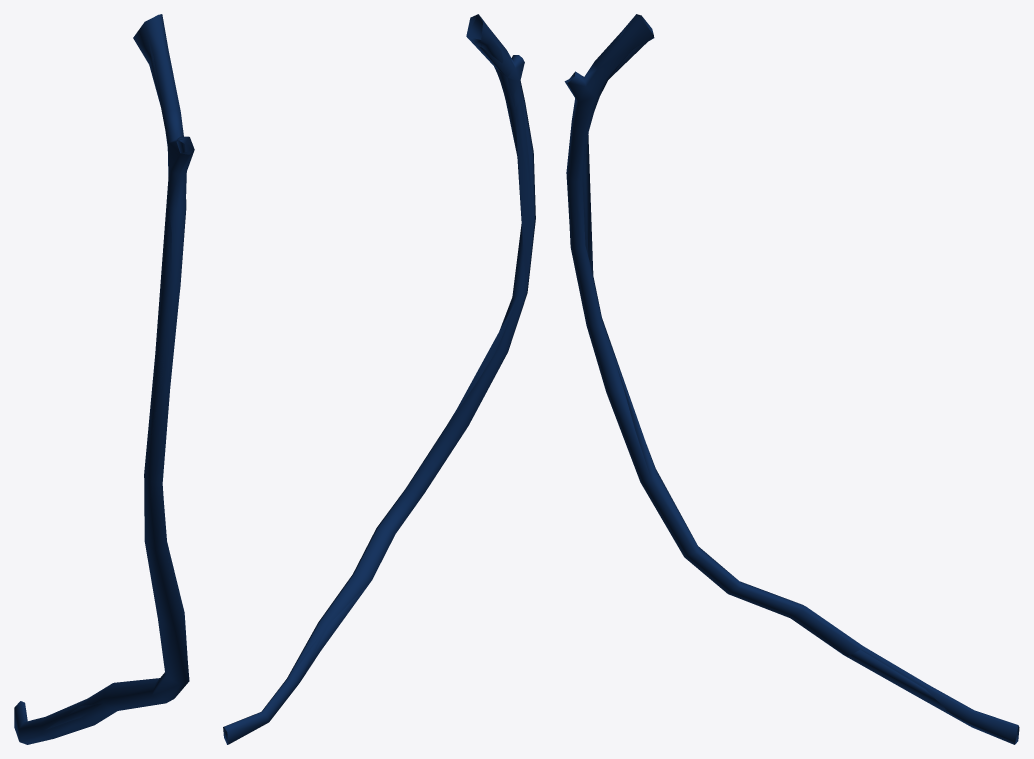
Rendered from L vena radialis.fbx.
3 renders of one model, left to right at view 1: azimuth 30°, elevation 25°; view 2: azimuth 150°, elevation 25°; view 3: azimuth 270°, elevation 25°, orthographic. The views are drawn at different scales.
Visible parts, largest first — view 1: L vena radialis, L vena radialis low; view 2: L vena radialis, L vena radialis low; view 3: L vena radialis, L vena radialis low.
Boxes of the visible parts, left/top/right/bottom form: L vena radialis: left=14, top=14, right=194, bottom=744; L vena radialis low: left=46, top=16, right=194, bottom=729; L vena radialis: left=223, top=14, right=535, bottom=744; L vena radialis low: left=224, top=14, right=535, bottom=744; L vena radialis: left=564, top=14, right=1019, bottom=744; L vena radialis low: left=568, top=14, right=1018, bottom=744.
Size of the model in its own units: 1.66 by 8.78 by 5.26.
